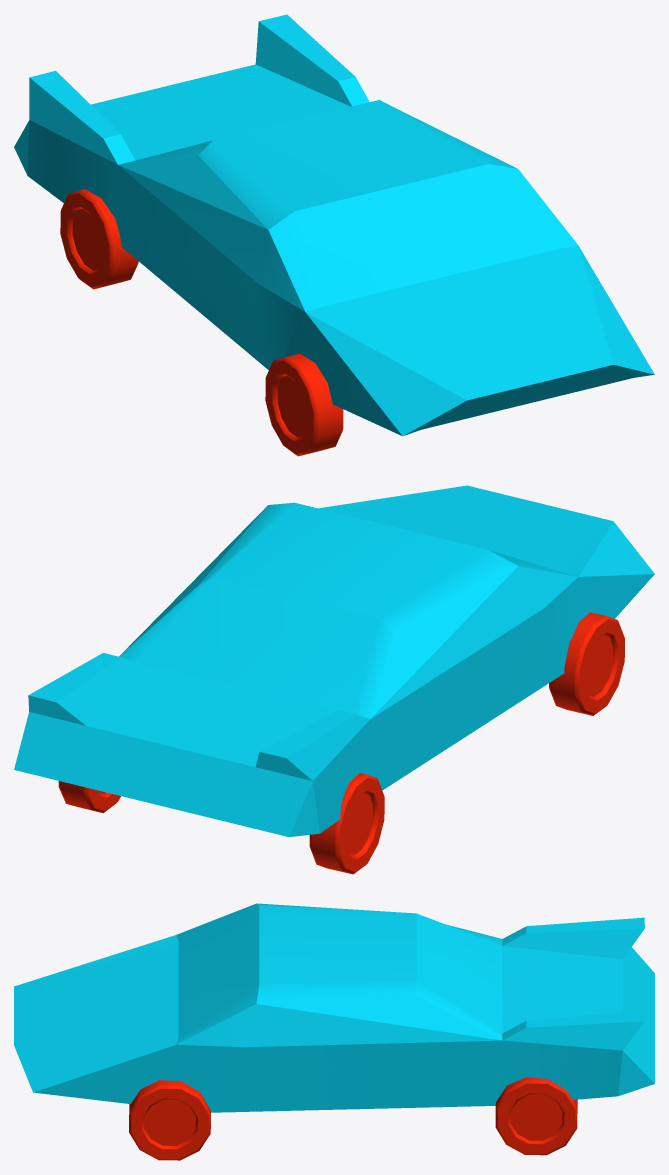
File: SportscarMesh.fbx
The picture shows the model from 3 angles, top to bottom: view 1: azimuth 30°, elevation 25°; view 2: azimuth 150°, elevation 25°; view 3: azimuth 270°, elevation 25°; orthographic projection. The views are drawn at different scales.
Parts seen in each view (by area): view 1: MESH_SportsCar; view 2: MESH_SportsCar; view 3: MESH_SportsCar.
Part boxes in pixels (x1,y1,x2,y2): MESH_SportsCar: [14, 14, 654, 456]; MESH_SportsCar: [14, 485, 654, 874]; MESH_SportsCar: [14, 903, 654, 1160].
Size of the model in its own units: 1.16 by 0.6661 by 2.51.
